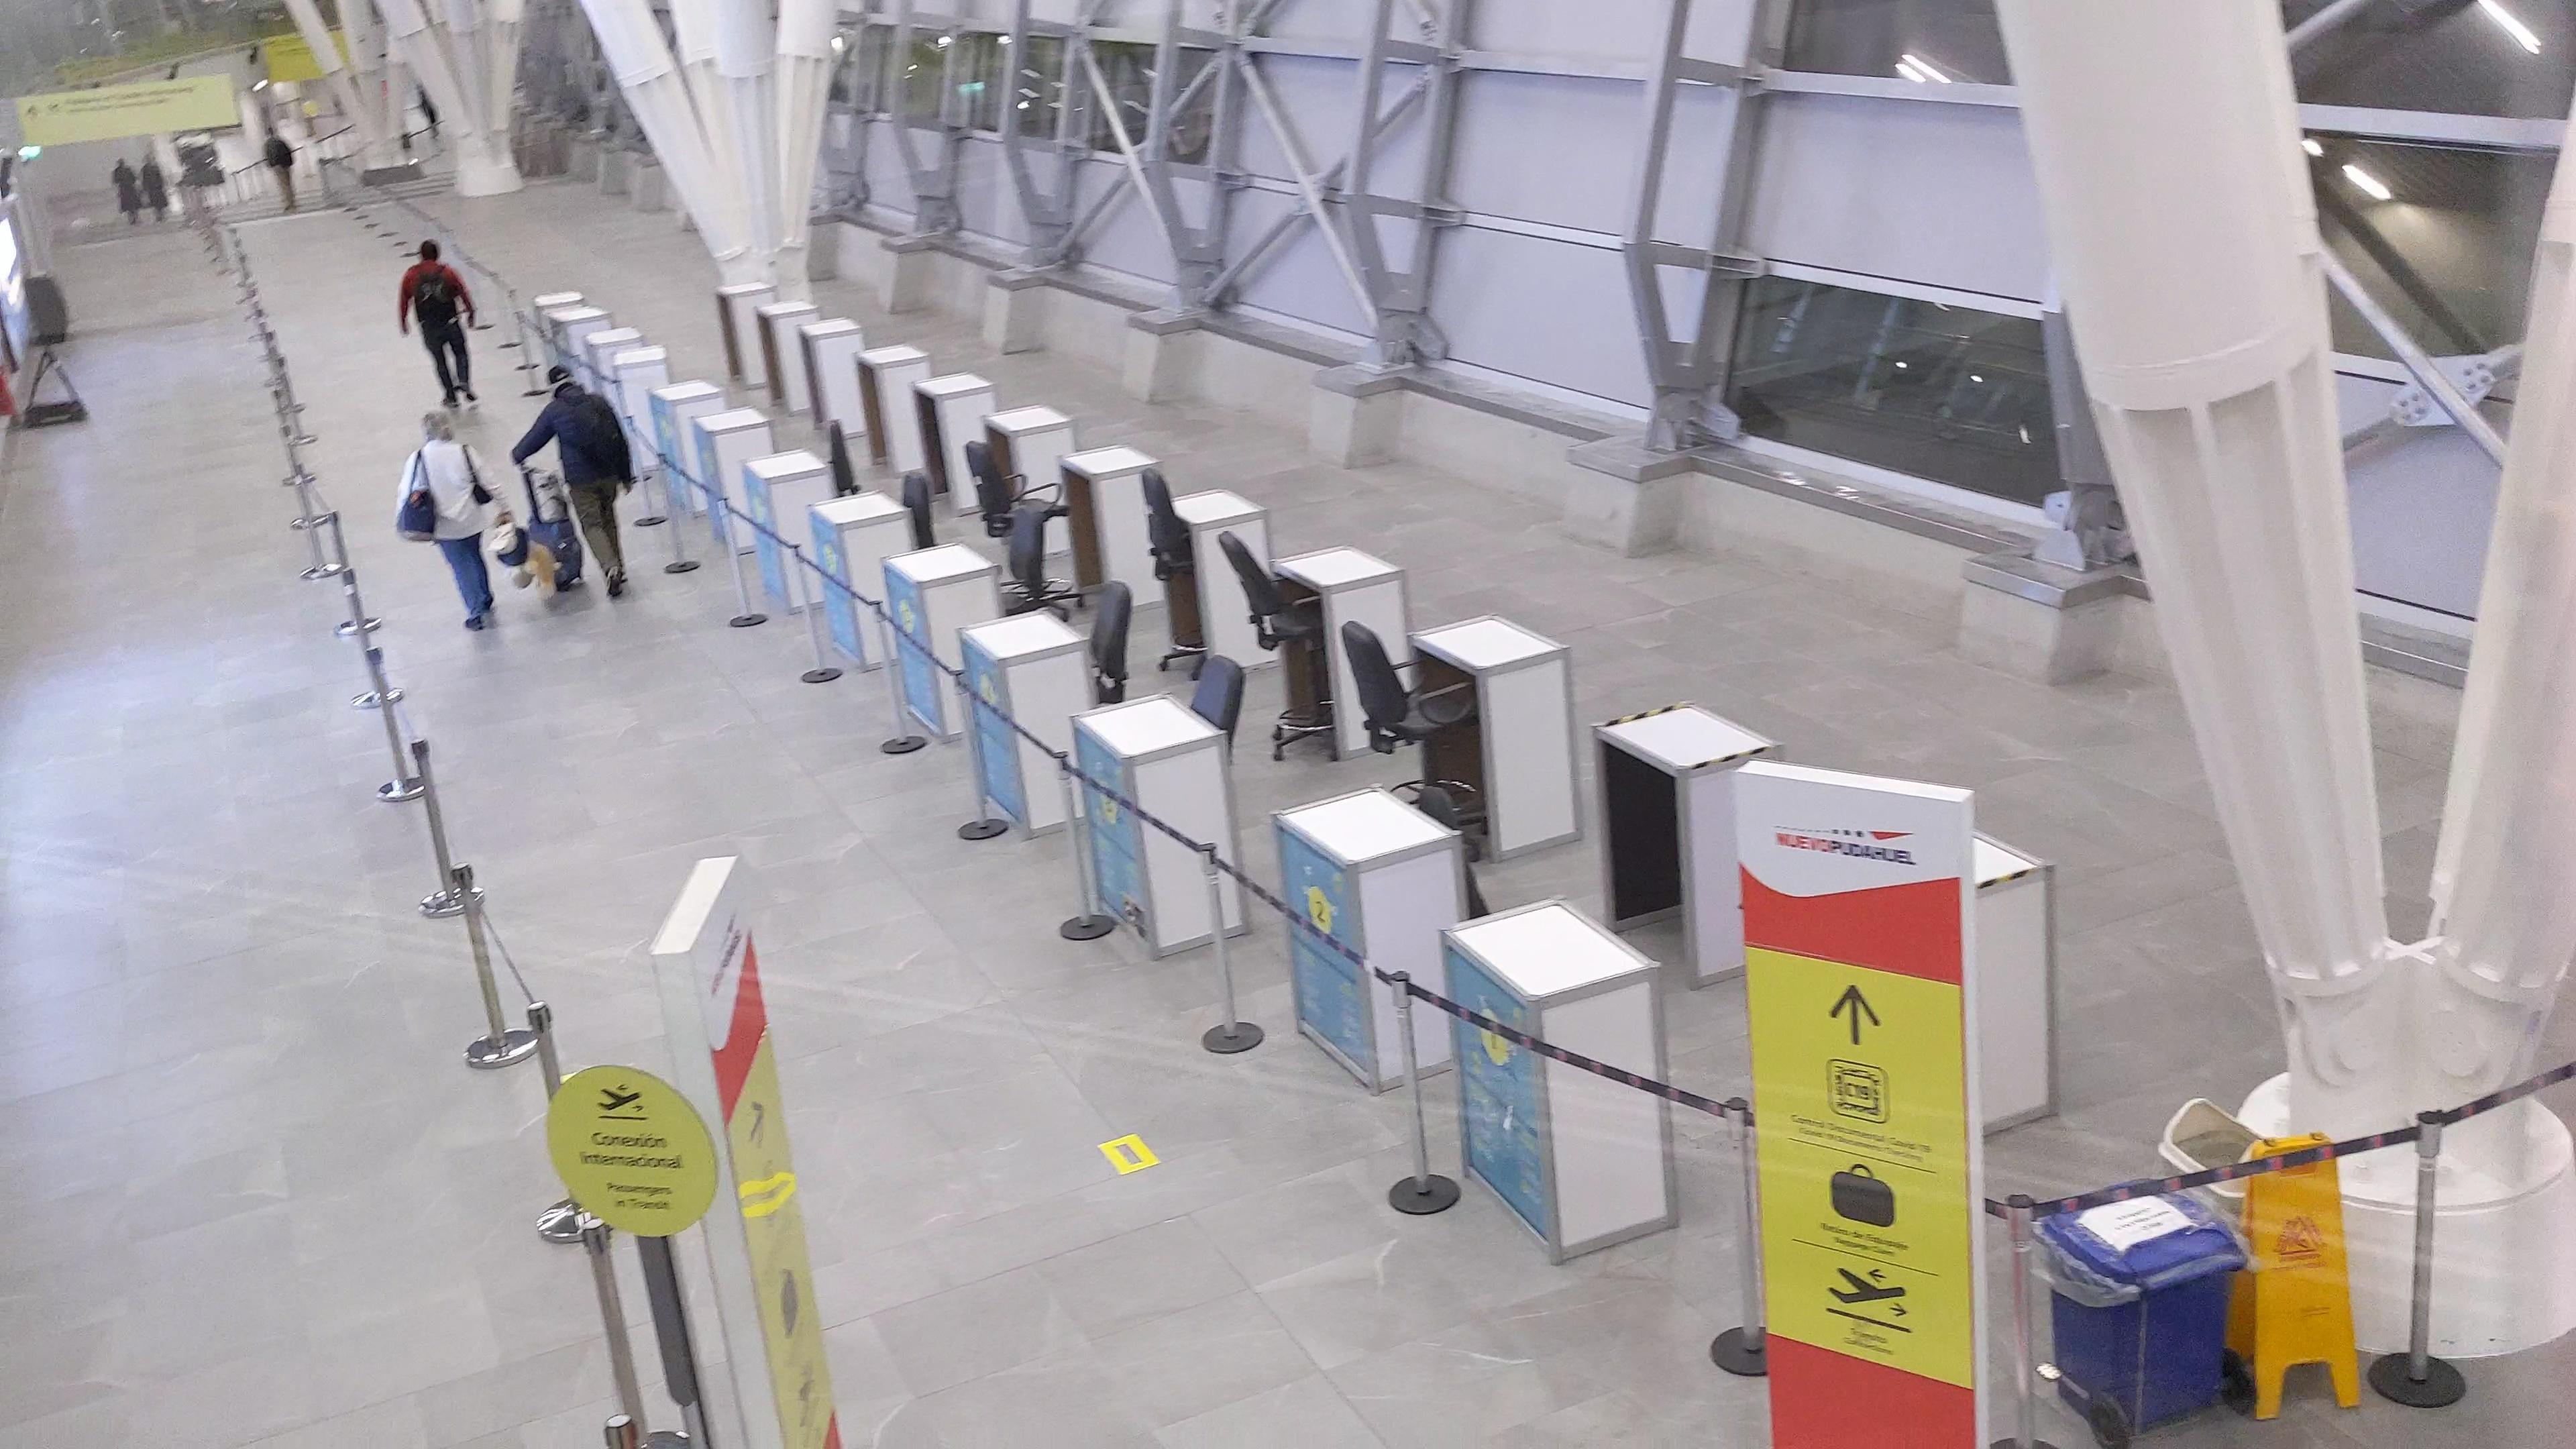airplane symbol: (1826, 1265, 1916, 1320), (584, 1081, 656, 1115)
baggage claim: (1829, 1161, 1898, 1231)
thin up arrow: (1824, 982, 1888, 1049)
